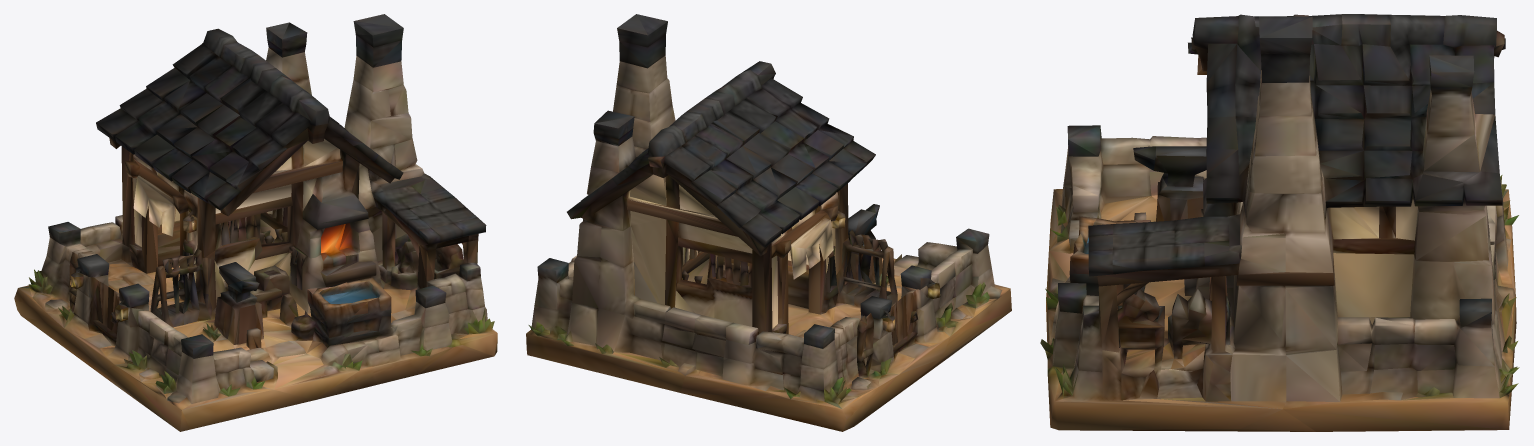
Rendered from smith_t3.glb.
3 views of the same model, side by side, from view 1: azimuth 30°, elevation 25°; view 2: azimuth 150°, elevation 25°; view 3: azimuth 270°, elevation 25° (orthographic). The views are drawn at different scales.
Visible parts, largest first — view 1: tripo_node_208b962b-a2bd-40f6-8d40-acf00508ac00; view 2: tripo_node_208b962b-a2bd-40f6-8d40-acf00508ac00; view 3: tripo_node_208b962b-a2bd-40f6-8d40-acf00508ac00.
Part boxes in pixels (x1,y1,x2,y2): tripo_node_208b962b-a2bd-40f6-8d40-acf00508ac00: [14, 14, 497, 431]; tripo_node_208b962b-a2bd-40f6-8d40-acf00508ac00: [526, 14, 1011, 431]; tripo_node_208b962b-a2bd-40f6-8d40-acf00508ac00: [1040, 14, 1519, 431].
Bounding box in the file's own units: 0.9803 × 0.7975 × 0.9097.
1 material, 1 textured.
